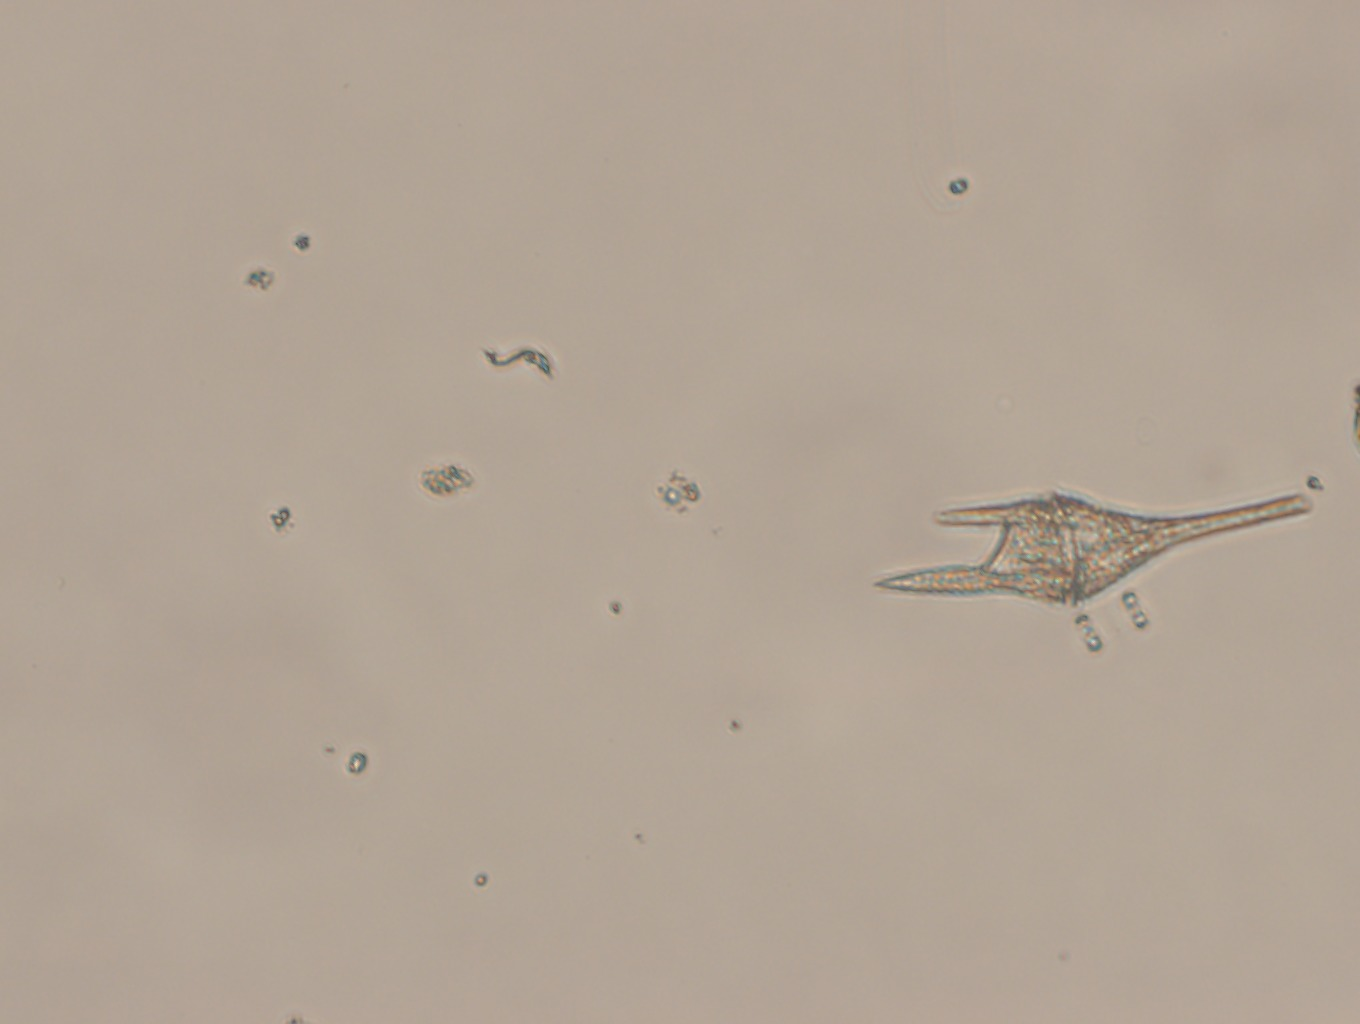ceratium furca: (873, 471, 1331, 608)
